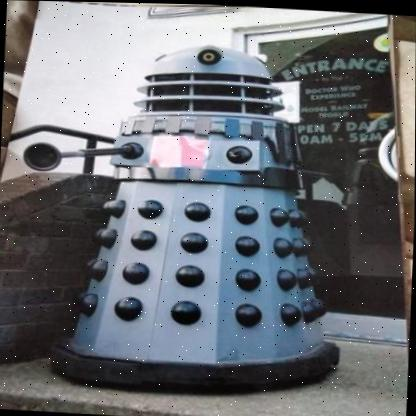dalek: (11, 27, 360, 412)
